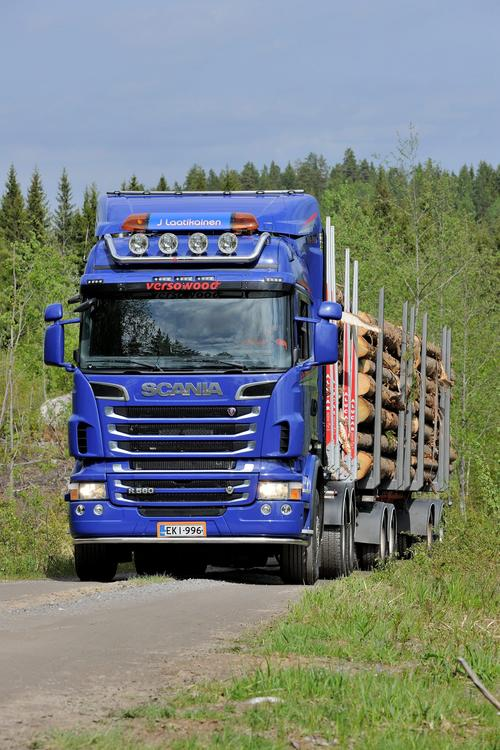卡车: (34, 178, 464, 568)
